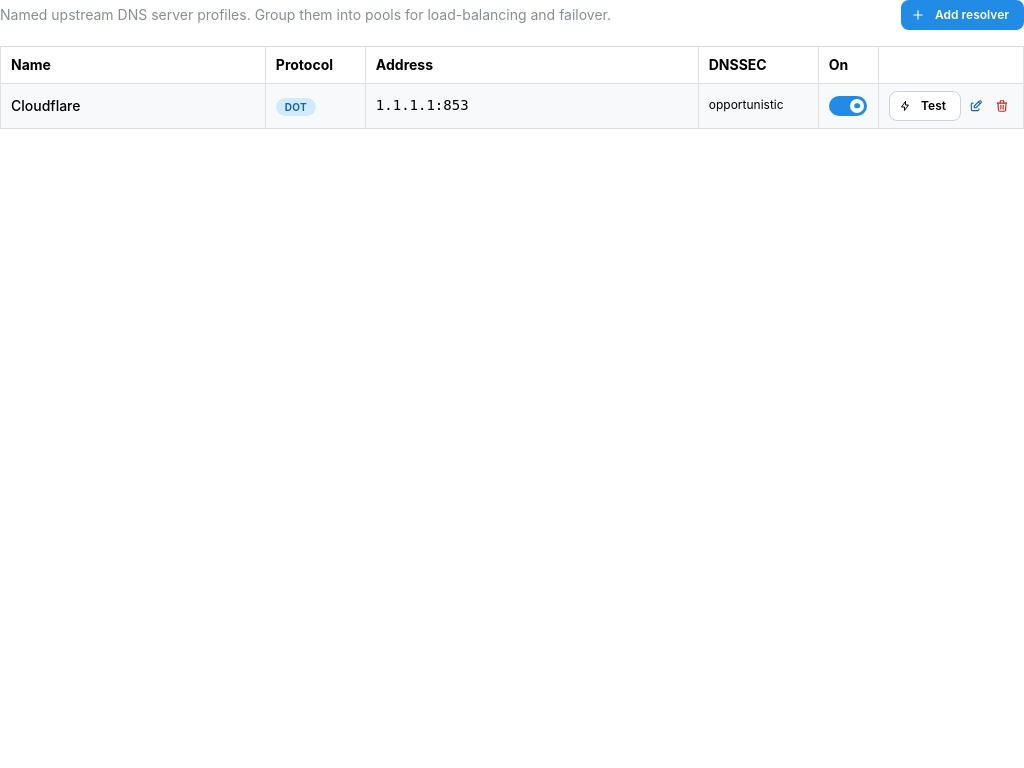
Test: ResolversTab › opens the edit modal prefilled with the resolver's values
Click the button named "Edit".
click(976, 106)  # box left=965, top=95, right=987, bottom=117
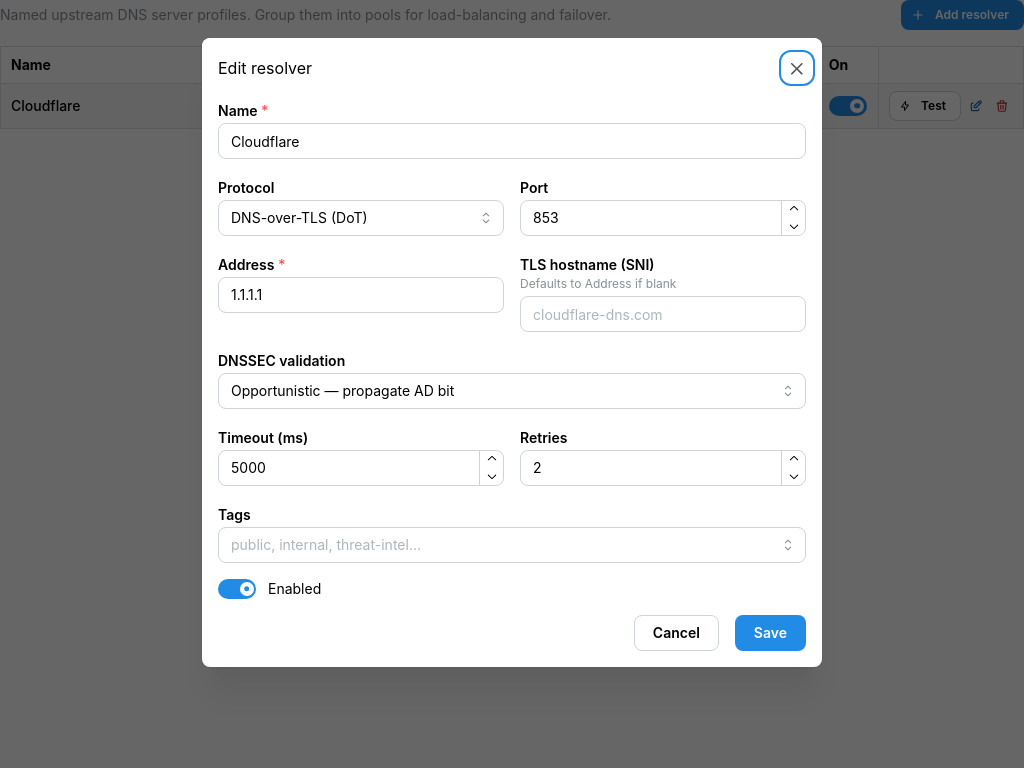
expect the heading "Edit resolver" is shown: met, box left=218, top=60, right=312, bottom=76
expect the field labelled "Name *" holds "Cloudflare": met, box left=218, top=123, right=806, bottom=159
expect the field labelled "Address *" holds "1.1.1.1": met, box left=218, top=277, right=504, bottom=313
